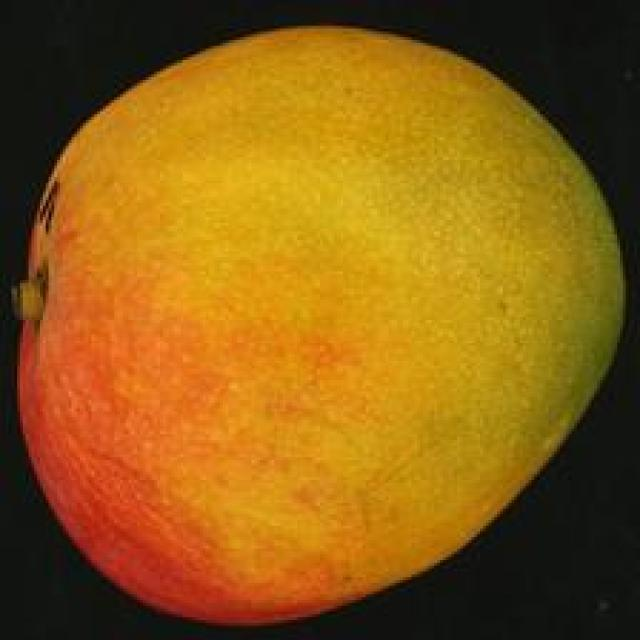Good_Mango: (11, 26, 629, 626)
